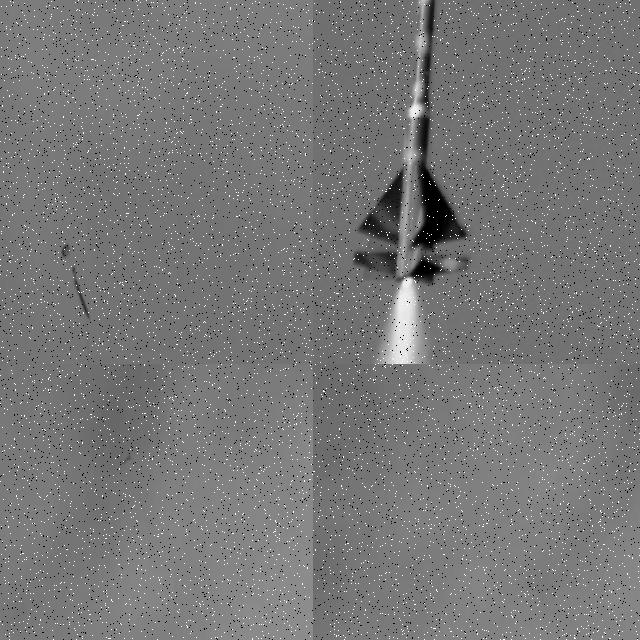Rocket: (351, 0, 472, 287), (122, 454, 132, 466)
